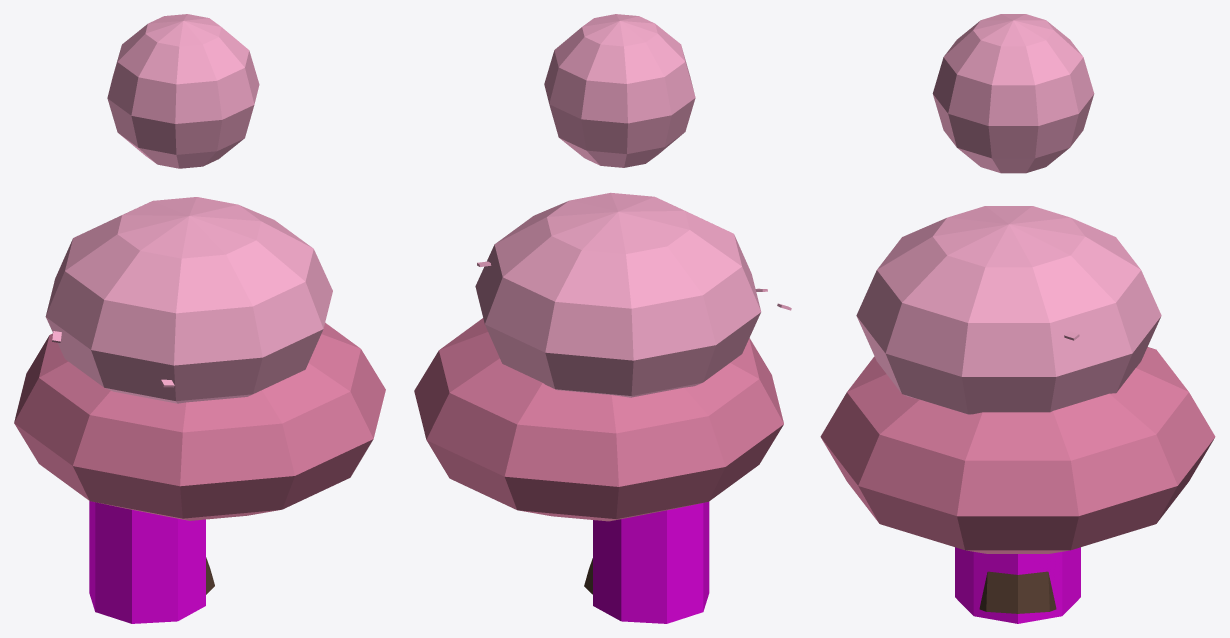
File: blossom_tree.glb
3 views of the same model, side by side, from view 1: azimuth 30°, elevation 25°; view 2: azimuth 150°, elevation 25°; view 3: azimuth 270°, elevation 25° (orthographic). The views are drawn at different scales.
Parts seen in each view (by area): view 1: CanTop, CanLow, CanTip, Col_main; view 2: CanLow, CanTop, CanTip, Col_main; view 3: CanLow, CanTop, CanTip, Col_main, Trunk0.
Part boxes in pixels (left/top/right/bottom): CanTop: left=45, top=197, right=332, bottom=403; CanLow: left=14, top=322, right=385, bottom=520; CanTip: left=107, top=14, right=259, bottom=168; Col_main: left=89, top=501, right=205, bottom=623; CanLow: left=414, top=318, right=783, bottom=521; CanTop: left=475, top=192, right=761, bottom=397; CanTip: left=544, top=14, right=695, bottom=167; Col_main: left=593, top=502, right=709, bottom=623; CanLow: left=820, top=347, right=1215, bottom=553; CanTop: left=856, top=206, right=1161, bottom=414; CanTip: left=932, top=14, right=1094, bottom=173; Col_main: left=955, top=547, right=1080, bottom=623; Trunk0: left=979, top=571, right=1056, bottom=613.
Bounding box in the file's own units: 4.37 × 7.39 × 4.4.
